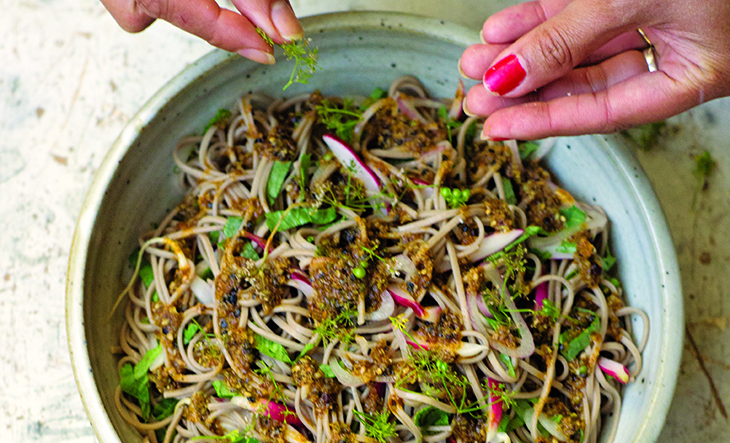Soba: (126, 100, 651, 441)
